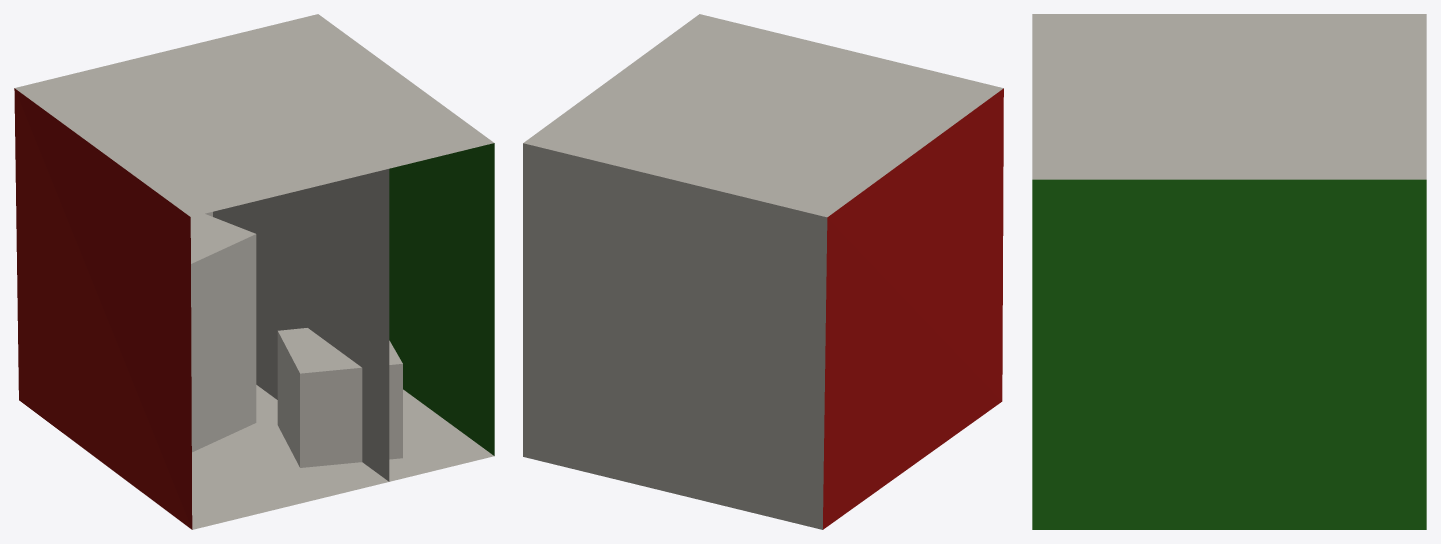
Rendered from CornellBox-Original-Alcove.obj.
The picture shows the model from 3 angles, left to right: view 1: azimuth 30°, elevation 25°; view 2: azimuth 150°, elevation 25°; view 3: azimuth 270°, elevation 25°; orthographic projection. The views are drawn at different scales.
Visible parts, largest first — view 1: leftWall, ceiling, rightWall, partition, floor, shortBox; view 2: backWall, leftWall, ceiling; view 3: rightWall, ceiling.
Boxes of the visible parts, x1,y1,x2,y2 form: leftWall: [14, 88, 402, 529]; ceiling: [15, 14, 493, 216]; rightWall: [389, 143, 494, 455]; partition: [213, 169, 389, 481]; floor: [192, 385, 493, 529]; shortBox: [190, 213, 256, 452]; backWall: [523, 143, 827, 529]; leftWall: [823, 88, 1003, 529]; ceiling: [523, 14, 1003, 217]; rightWall: [1032, 179, 1426, 529]; ceiling: [1032, 14, 1426, 179].
Size of the model in its own units: 2.02 by 1.99 by 2.03.
